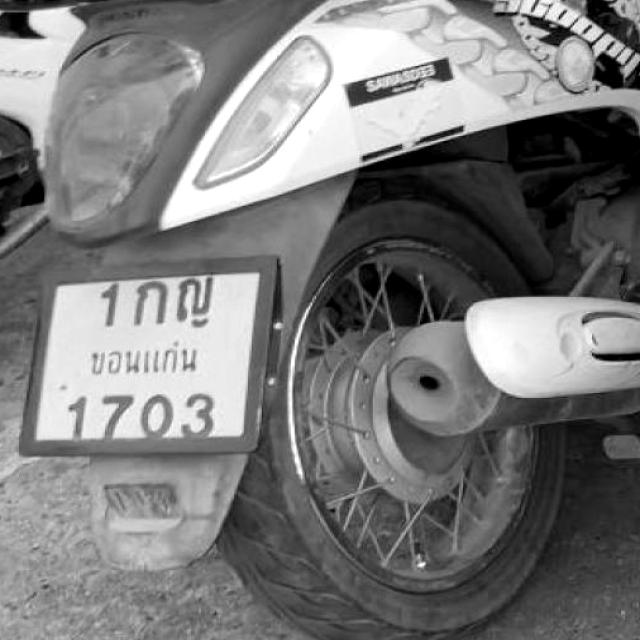letters: (176, 271, 217, 326), (131, 280, 173, 328), (98, 395, 136, 442), (92, 280, 125, 331), (64, 389, 96, 441), (140, 394, 176, 438), (183, 392, 215, 441)
license-plate: (22, 265, 275, 447)
province: (74, 336, 200, 383)
